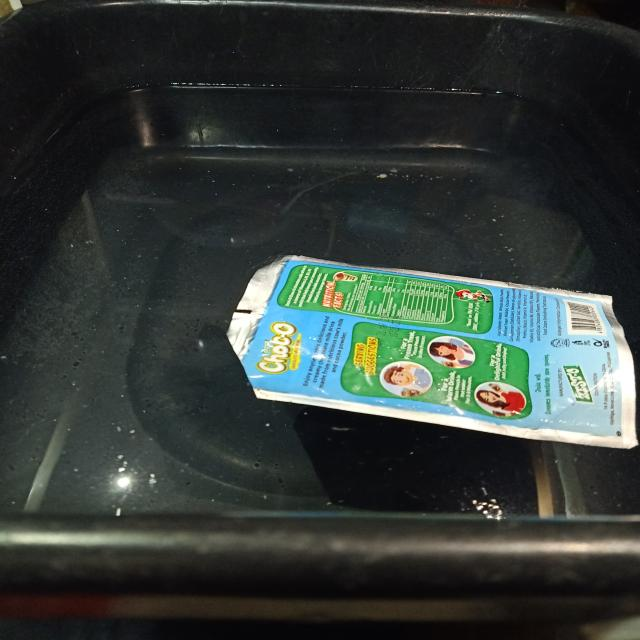Plastic Pouch: (227, 256, 632, 445)
